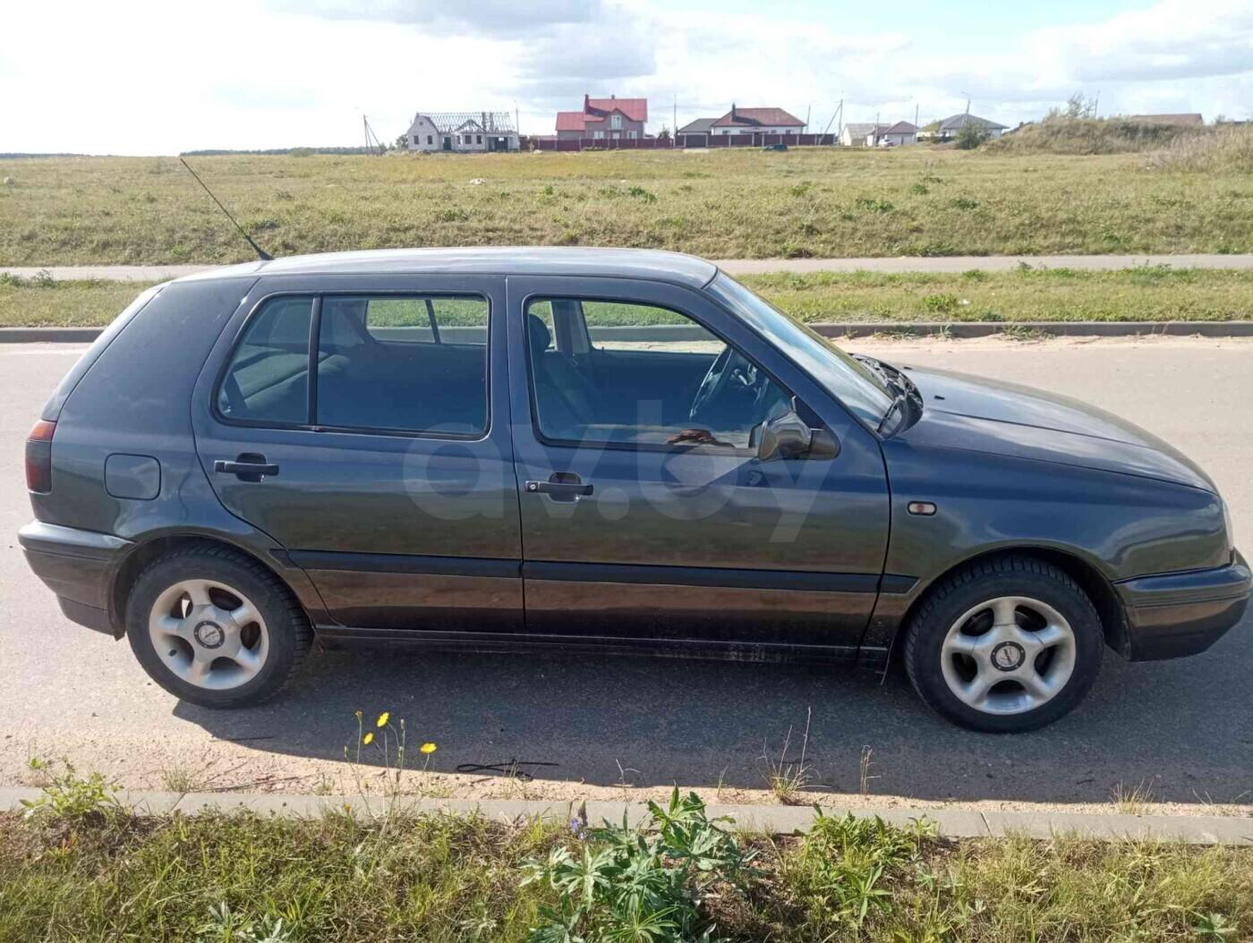Golf_1991-2000: (9, 243, 1253, 739)
